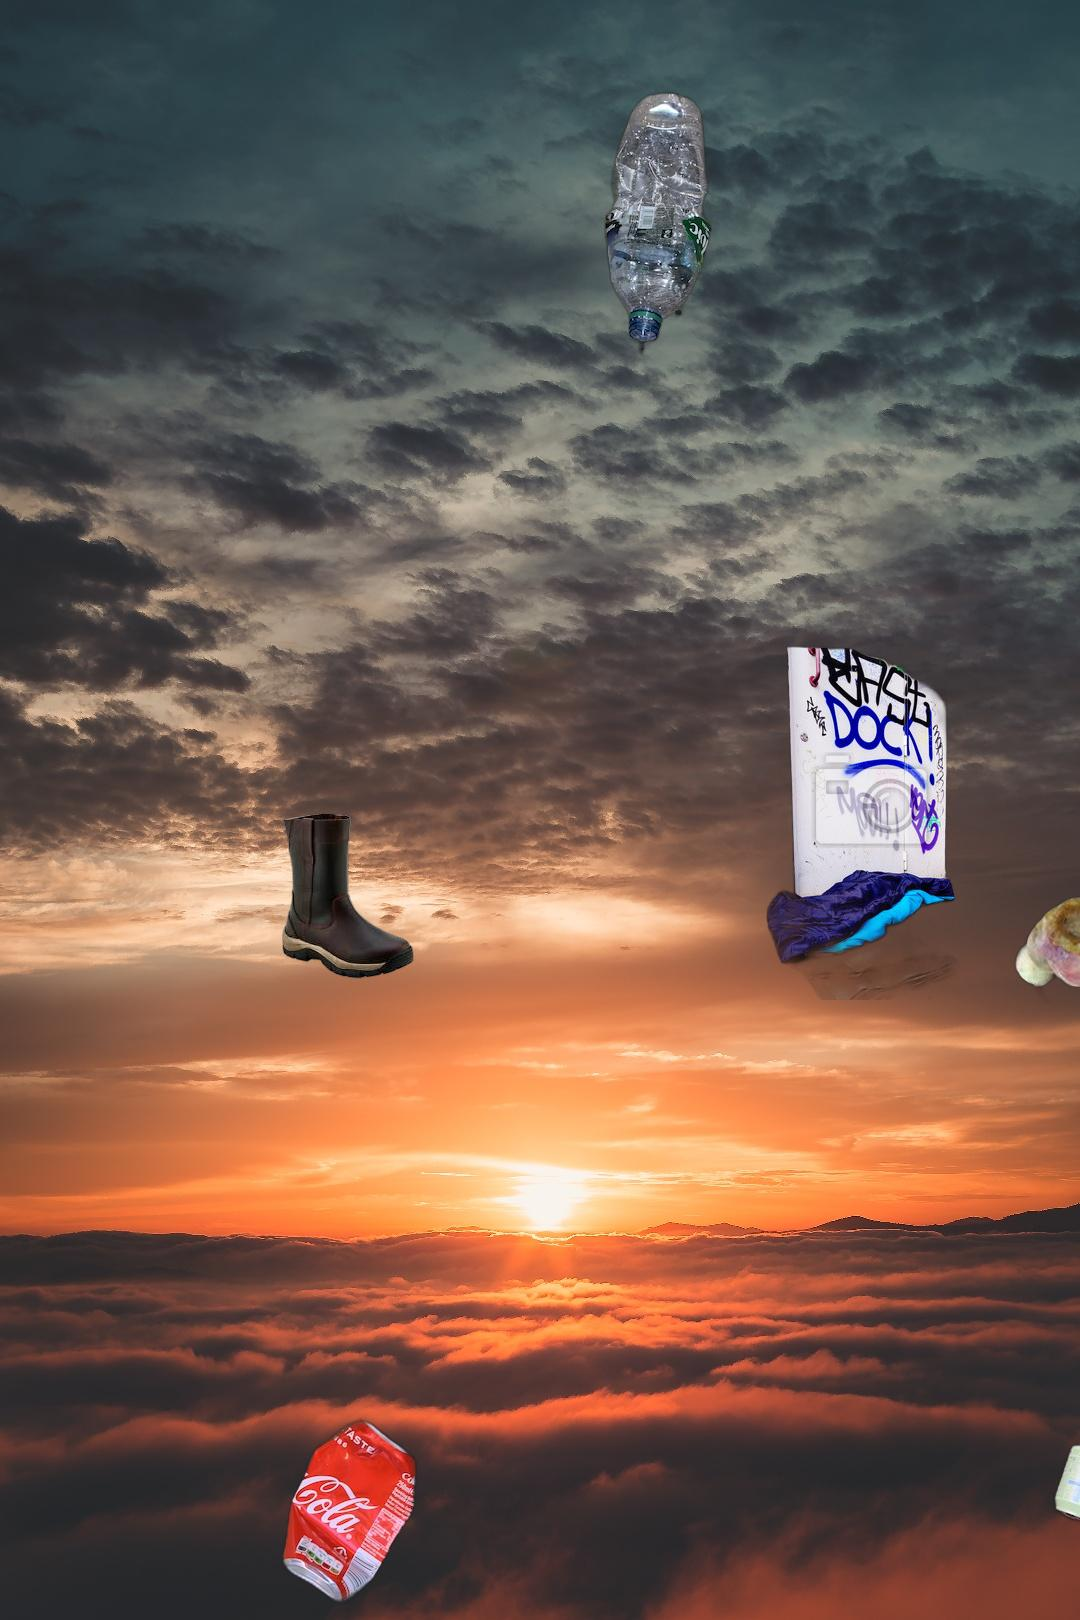biological: (1012, 894, 1080, 1005)
metal-cans: (278, 1415, 419, 1607), (1049, 1438, 1080, 1527)
plastic-bottles: (601, 88, 714, 359)
shoes: (280, 811, 416, 981)
trashbox-cardboard: (764, 642, 1005, 1000)
